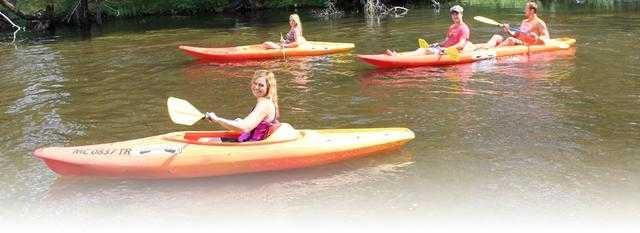kayak: (31, 122, 415, 181), (354, 39, 578, 65), (176, 44, 355, 62)
